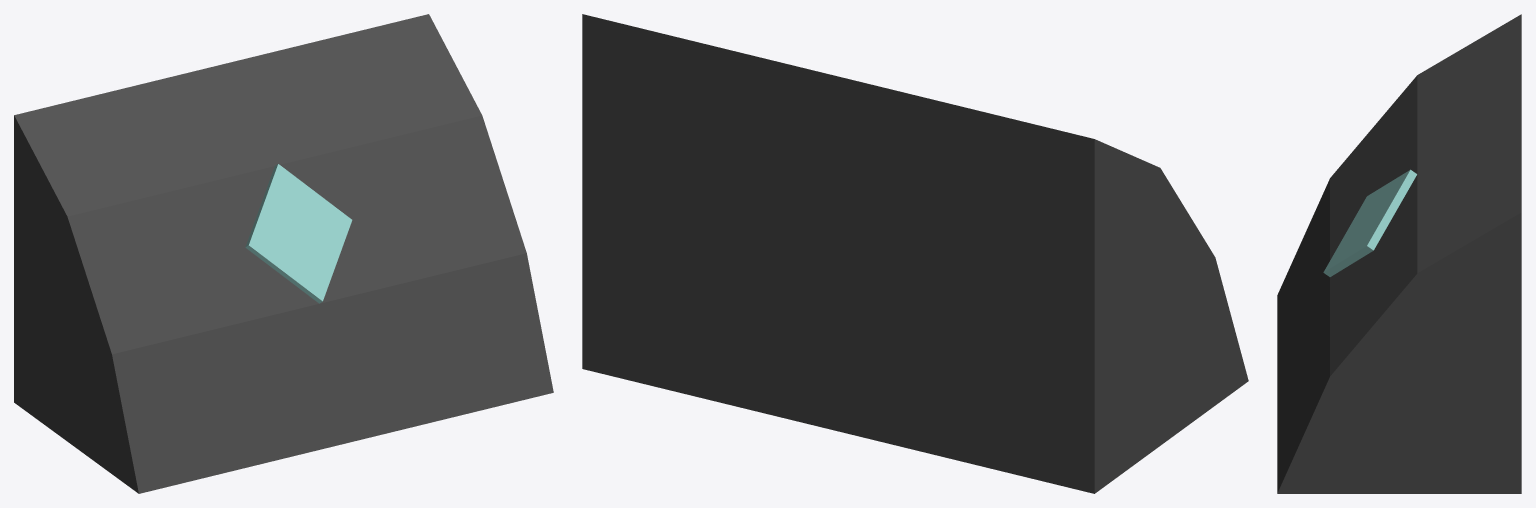
File: Almacen.fbx
The picture shows the model from 3 angles, left to right: view 1: azimuth 30°, elevation 25°; view 2: azimuth 150°, elevation 25°; view 3: azimuth 270°, elevation 25°; orthographic projection. The views are drawn at different scales.
Parts seen in each view (by area): view 1: Cube.010; view 2: Cube.010; view 3: Cube.010.
Part boxes in pixels (x1,y1,x2,y2): Cube.010: (14, 14, 553, 493); Cube.010: (582, 14, 1248, 493); Cube.010: (1277, 14, 1521, 493).
Bounding box in the file's own units: 295 × 195 × 154.
